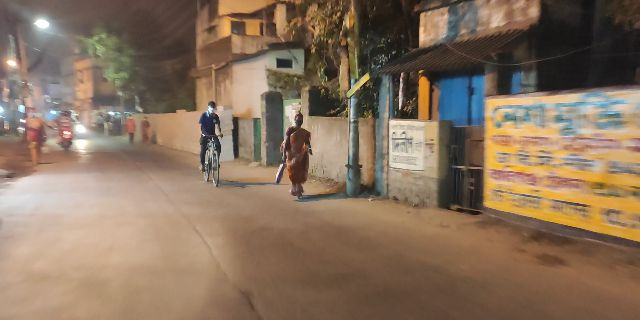Cycle: (190, 98, 230, 185)
